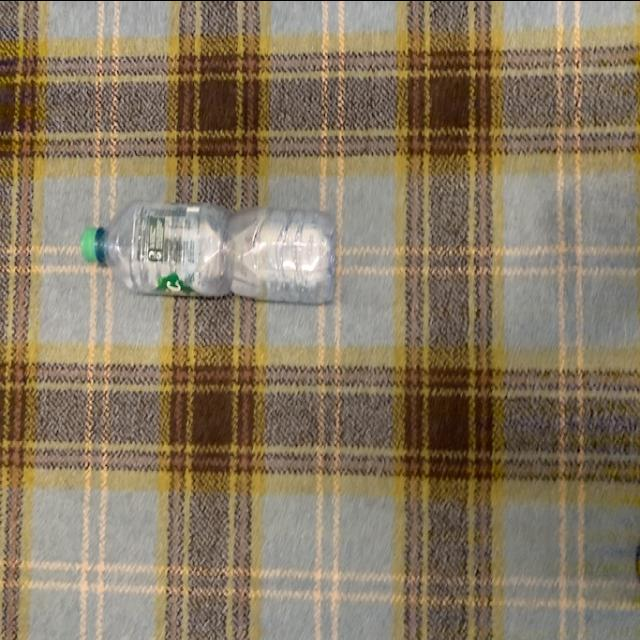litter: (82, 196, 340, 302)
